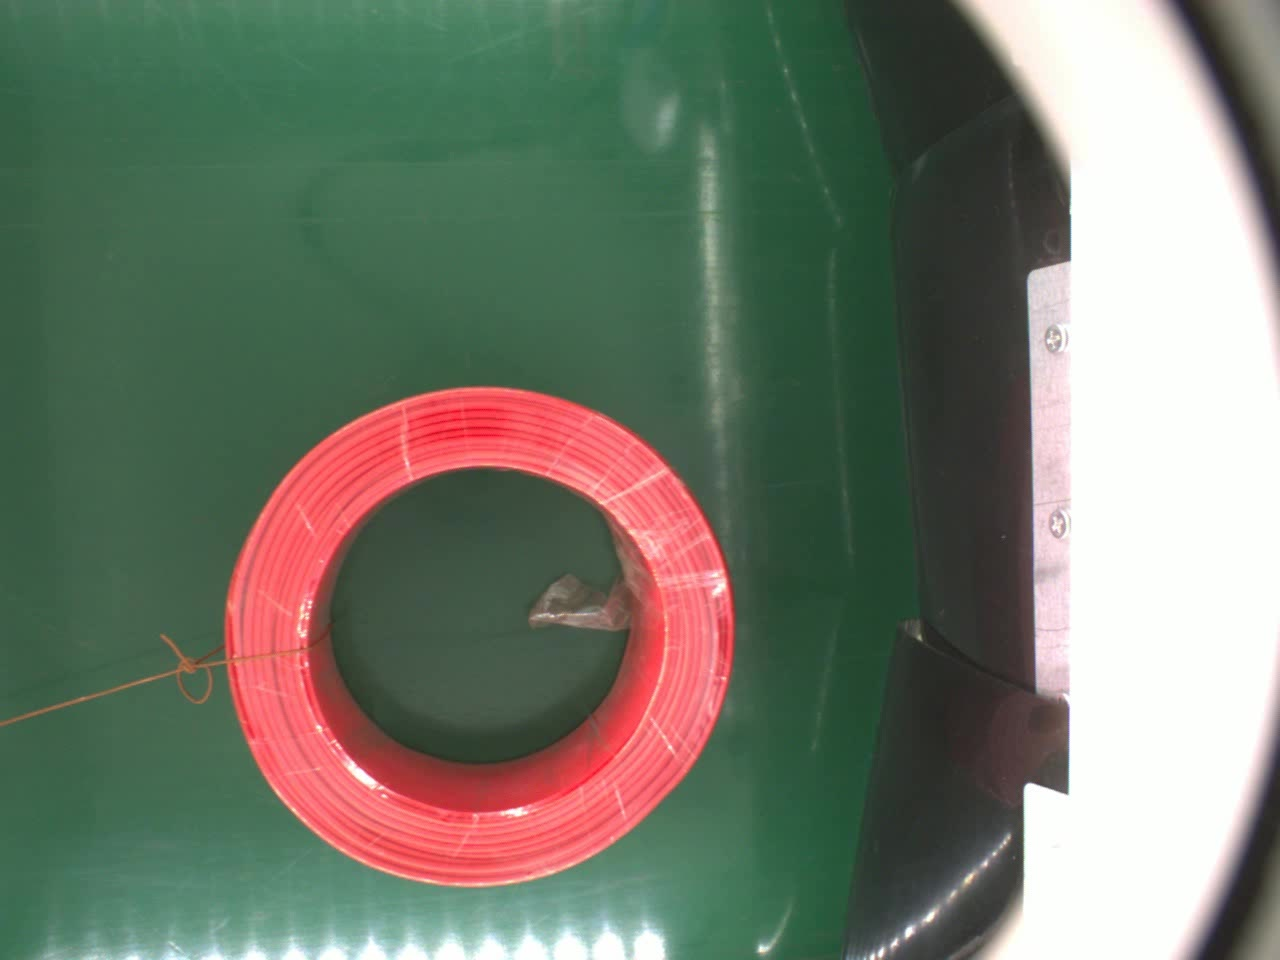red: (221, 383, 740, 889)
